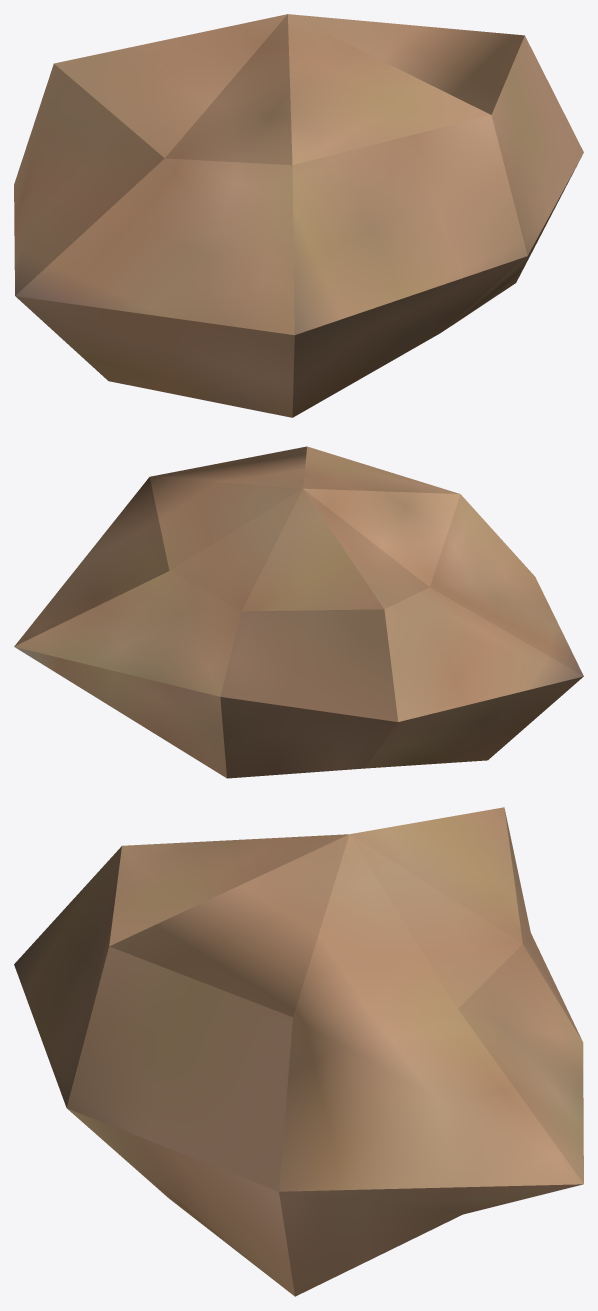
Rendered from SM_Rock_Desert_A.fbx.
The picture shows the model from 3 angles, top to bottom: view 1: azimuth 30°, elevation 25°; view 2: azimuth 150°, elevation 25°; view 3: azimuth 270°, elevation 25°; orthographic projection. The views are drawn at different scales.
Visible parts, largest first — view 1: SM_Rock_Desert_A; view 2: SM_Rock_Desert_A; view 3: SM_Rock_Desert_A.
Boxes of the visible parts, box(x1,y1,x2,y2) form: SM_Rock_Desert_A: box(14, 14, 583, 417); SM_Rock_Desert_A: box(14, 446, 583, 778); SM_Rock_Desert_A: box(14, 807, 583, 1296).
Bounding box in the file's own units: 397 × 203 × 296.
1 material, 1 textured.
